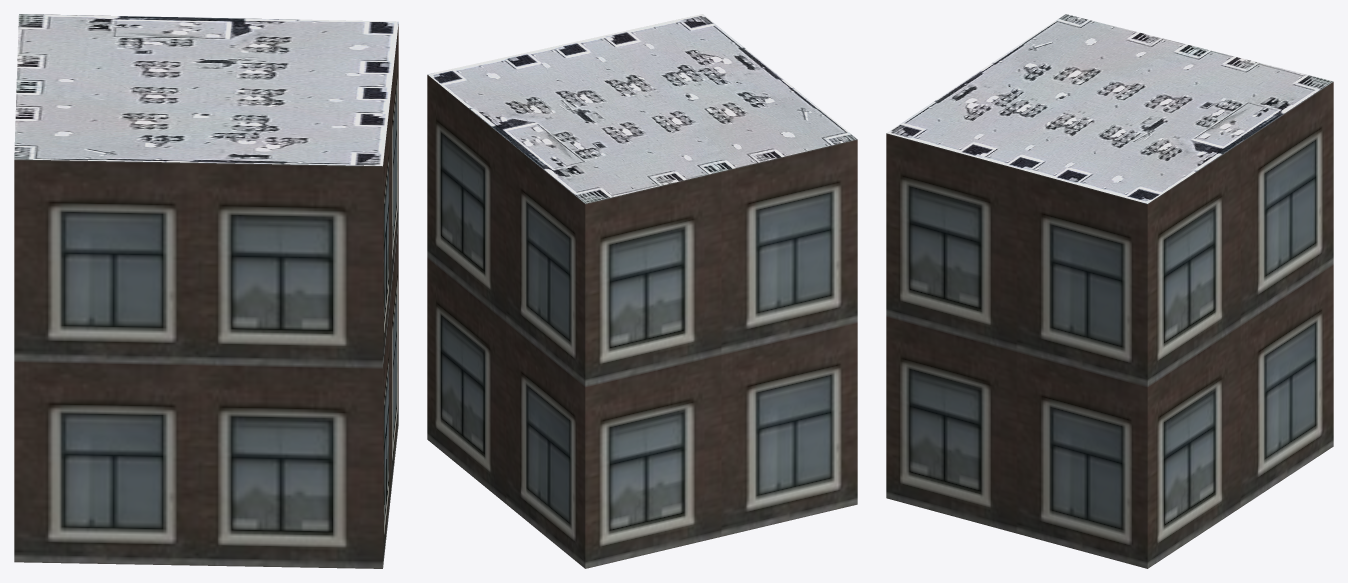
File: ResTex__1812.fbx
The picture shows the model from 3 angles, left to right: view 1: azimuth 30°, elevation 25°; view 2: azimuth 150°, elevation 25°; view 3: azimuth 270°, elevation 25°; orthographic projection. The views are drawn at different scales.
Parts seen in each view (by area): view 1: CityEngineMaterial_16_m, CityEngineMaterial_15_m; view 2: CityEngineMaterial_16_m, CityEngineMaterial_15_m; view 3: CityEngineMaterial_16_m, CityEngineMaterial_15_m.
Boxes of the visible parts, <box> form: CityEngineMaterial_16_m: <box>14,24,398,568</box>; CityEngineMaterial_15_m: <box>14,14,398,166</box>; CityEngineMaterial_16_m: <box>427,75,857,568</box>; CityEngineMaterial_15_m: <box>427,14,857,203</box>; CityEngineMaterial_16_m: <box>886,82,1333,568</box>; CityEngineMaterial_15_m: <box>886,14,1333,203</box>.
Bounding box in the file's own units: 6.7 × 6 × 6.67.
Materials: 2 (2 with a texture image).
